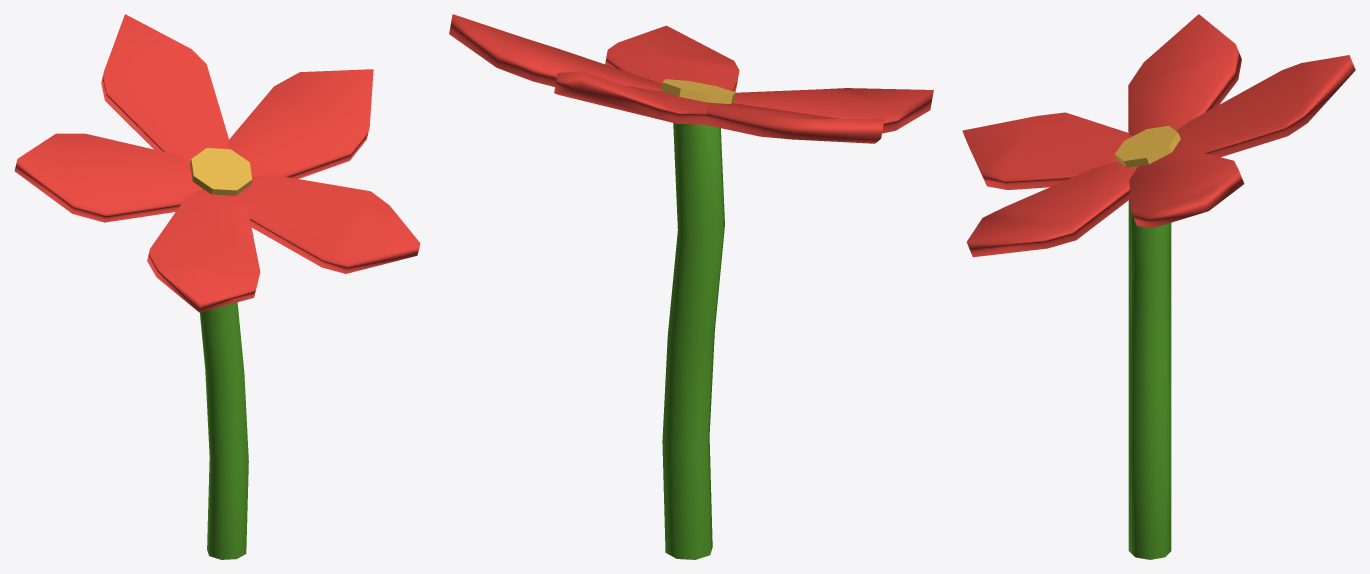
The model's file is Flower_Red_4.fbx.
3 renders of one model, left to right at view 1: azimuth 30°, elevation 25°; view 2: azimuth 150°, elevation 25°; view 3: azimuth 270°, elevation 25°, orthographic. The views are drawn at different scales.
Visible parts, largest first — view 1: Cube.104, Cylinder.253, Cylinder.255; view 2: Cube.104, Cylinder.253, Cylinder.255; view 3: Cube.104, Cylinder.253, Cylinder.255.
Boxes of the visible parts, left/top/right/bottom form: Cube.104: left=14, top=14, right=420, bottom=312; Cylinder.253: left=199, top=302, right=248, bottom=559; Cylinder.255: left=190, top=148, right=252, bottom=195; Cube.104: left=449, top=14, right=933, bottom=143; Cylinder.253: left=662, top=123, right=724, bottom=559; Cylinder.255: left=661, top=79, right=735, bottom=103; Cube.104: left=962, top=14, right=1355, bottom=257; Cylinder.253: left=1128, top=199, right=1171, bottom=559; Cylinder.255: left=1115, top=125, right=1180, bottom=167.
Bounding box in the file's own units: 71.56 × 89.76 × 64.99.
